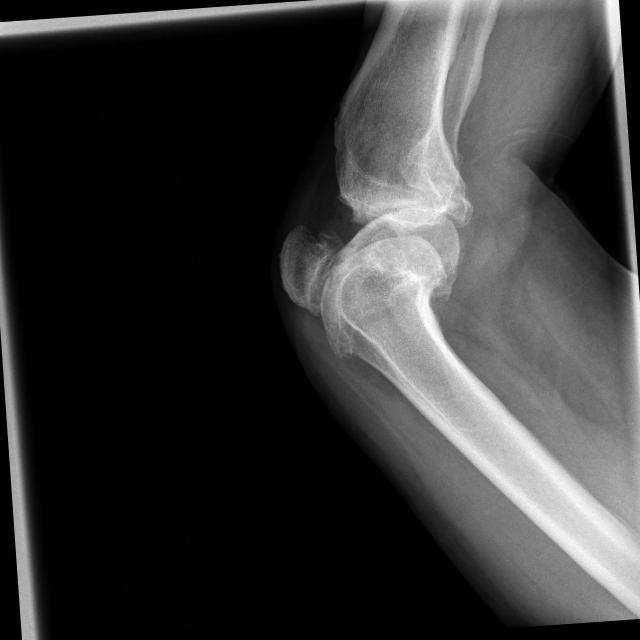Knee: (272, 133, 486, 355)
